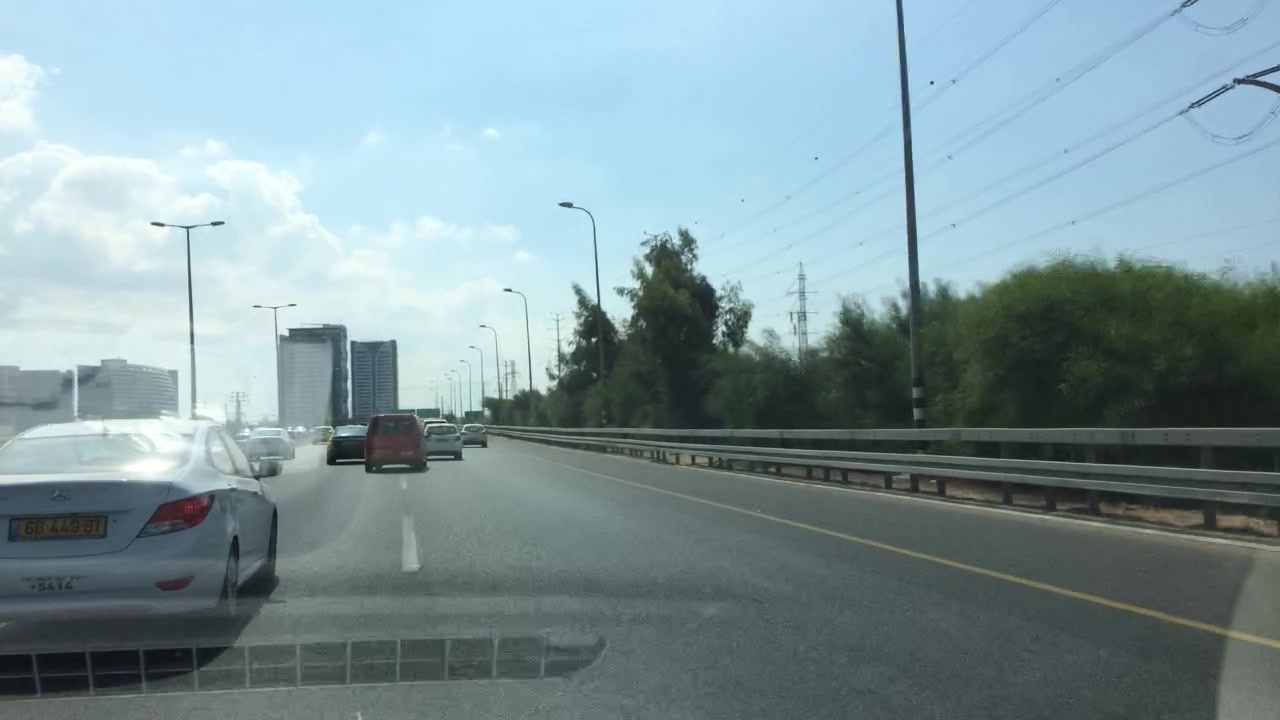licence: (8, 510, 113, 543)
